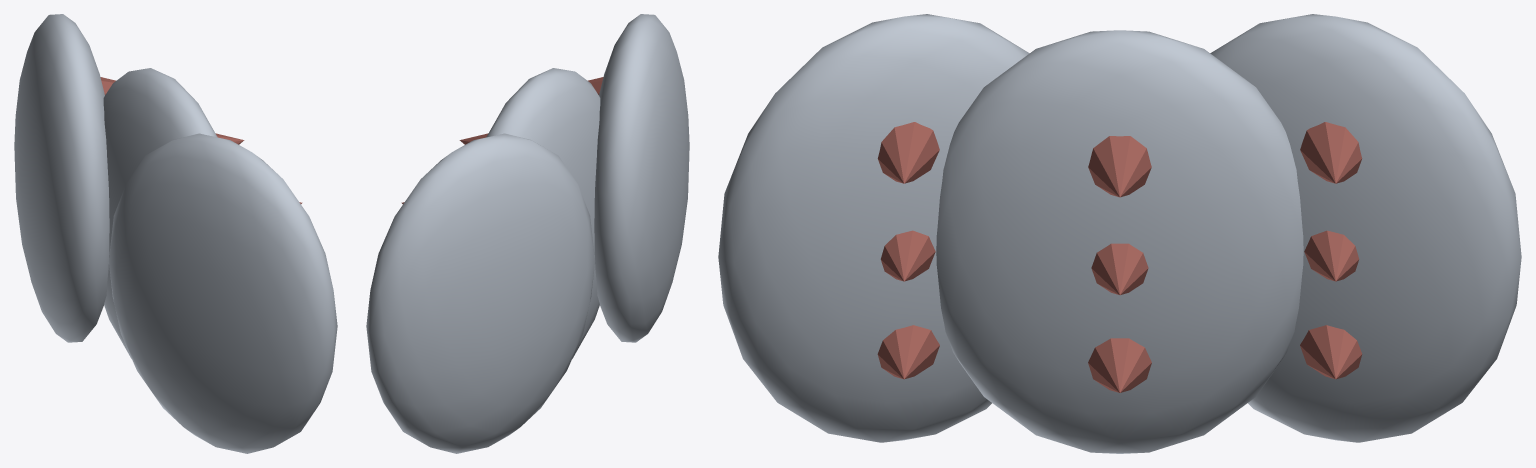
File: cell.armorplate.glb
3 views of the same model, side by side, from view 1: azimuth 30°, elevation 25°; view 2: azimuth 150°, elevation 25°; view 3: azimuth 270°, elevation 25° (orthographic). The views are drawn at different scales.
Visible parts, largest first — view 1: Armor; view 2: Armor; view 3: Armor, Chitin.
Part boxes in pixels (left/top/right/bottom): Armor: left=14, top=14, right=337, bottom=453; Armor: left=366, top=14, right=689, bottom=453; Armor: left=718, top=14, right=1521, bottom=453; Chitin: left=877, top=122, right=1362, bottom=392.
Bounding box in the file's own units: 0.2757 × 0.52 × 0.8933.
